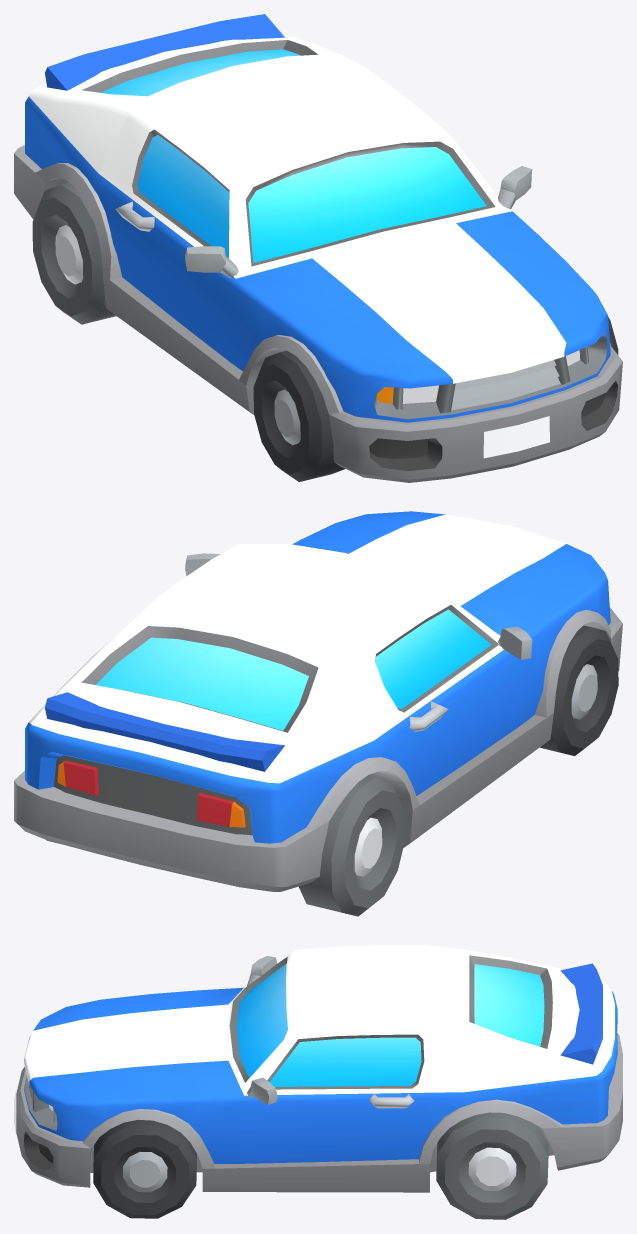
Rendered from city2-car-35.glb.
3 views of the same model, one above another, from view 1: azimuth 30°, elevation 25°; view 2: azimuth 150°, elevation 25°; view 3: azimuth 270°, elevation 25° (orthographic). The views are drawn at different scales.
Parts seen in each view (by area): view 1: Car_1.011, Wheel_062, Wheel_061; view 2: Car_1.011, Wheel_061, Wheel_062; view 3: Car_1.011, Wheel_064, Wheel_063.
Part boxes in pixels (x1,y1,x2,y2): Car_1.011: (14,14,622,482); Wheel_062: (253,350,345,481); Wheel_061: (32,182,116,324); Car_1.011: (14,511,622,891); Wheel_061: (299,775,405,916); Wheel_062: (540,625,618,755); Car_1.011: (14,945,622,1192); Wheel_064: (436,1112,548,1219); Wheel_063: (93,1119,196,1218).
Size of the model in its own units: 2.49 by 1.61 by 4.74.
2 materials, 2 textured.
